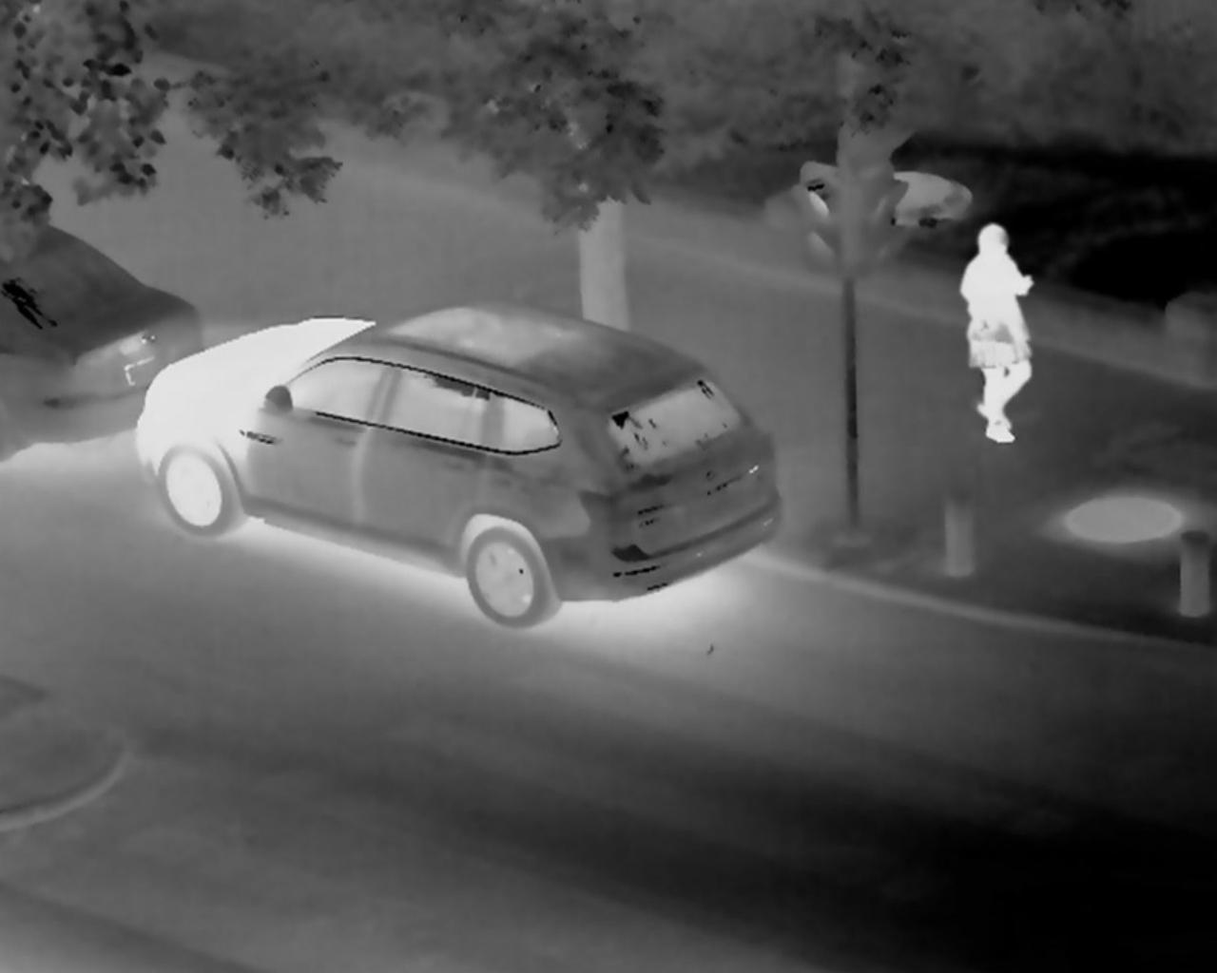person: (942, 209, 1058, 422)
